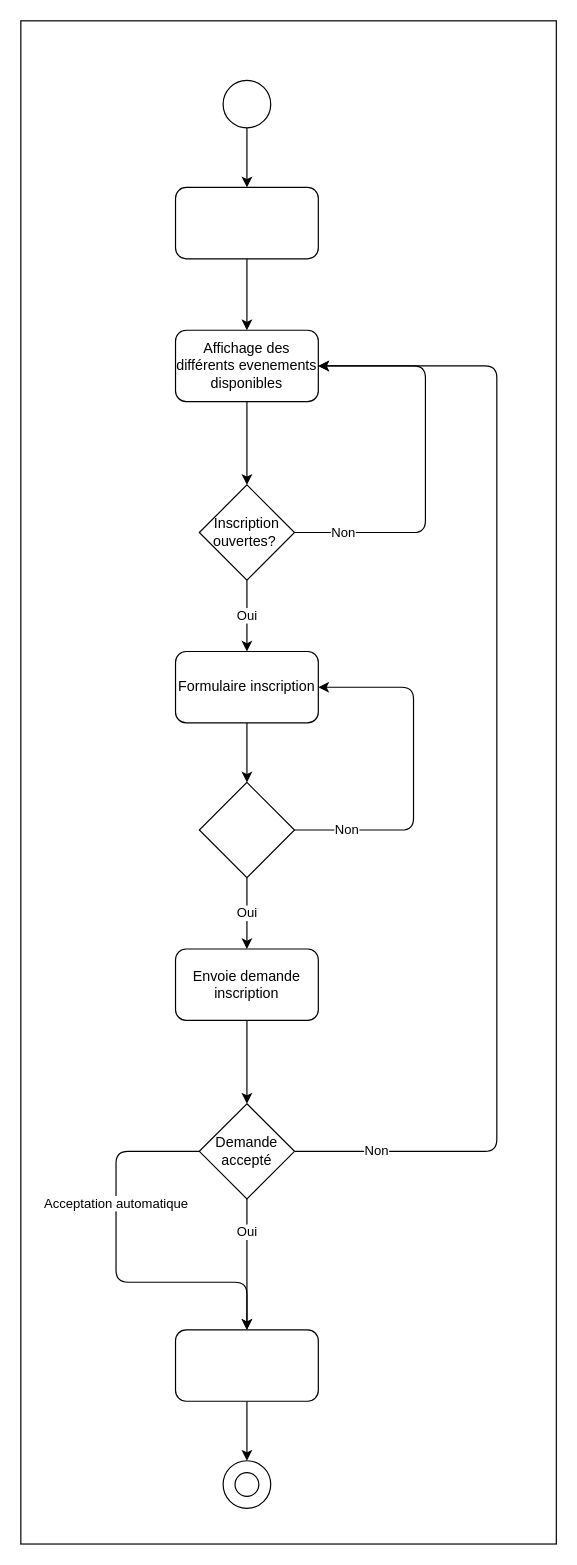
The diagram is 577 pixels wide and 1565 high, and some of its shapes have lost their labels. Here are the shapes that lost their labels. From the top down, the centre of each, then its label:
At point (246, 222): "Recherche evenement".
At point (246, 829): "Validation formulaire".
At point (246, 1365): "Inscrit".
